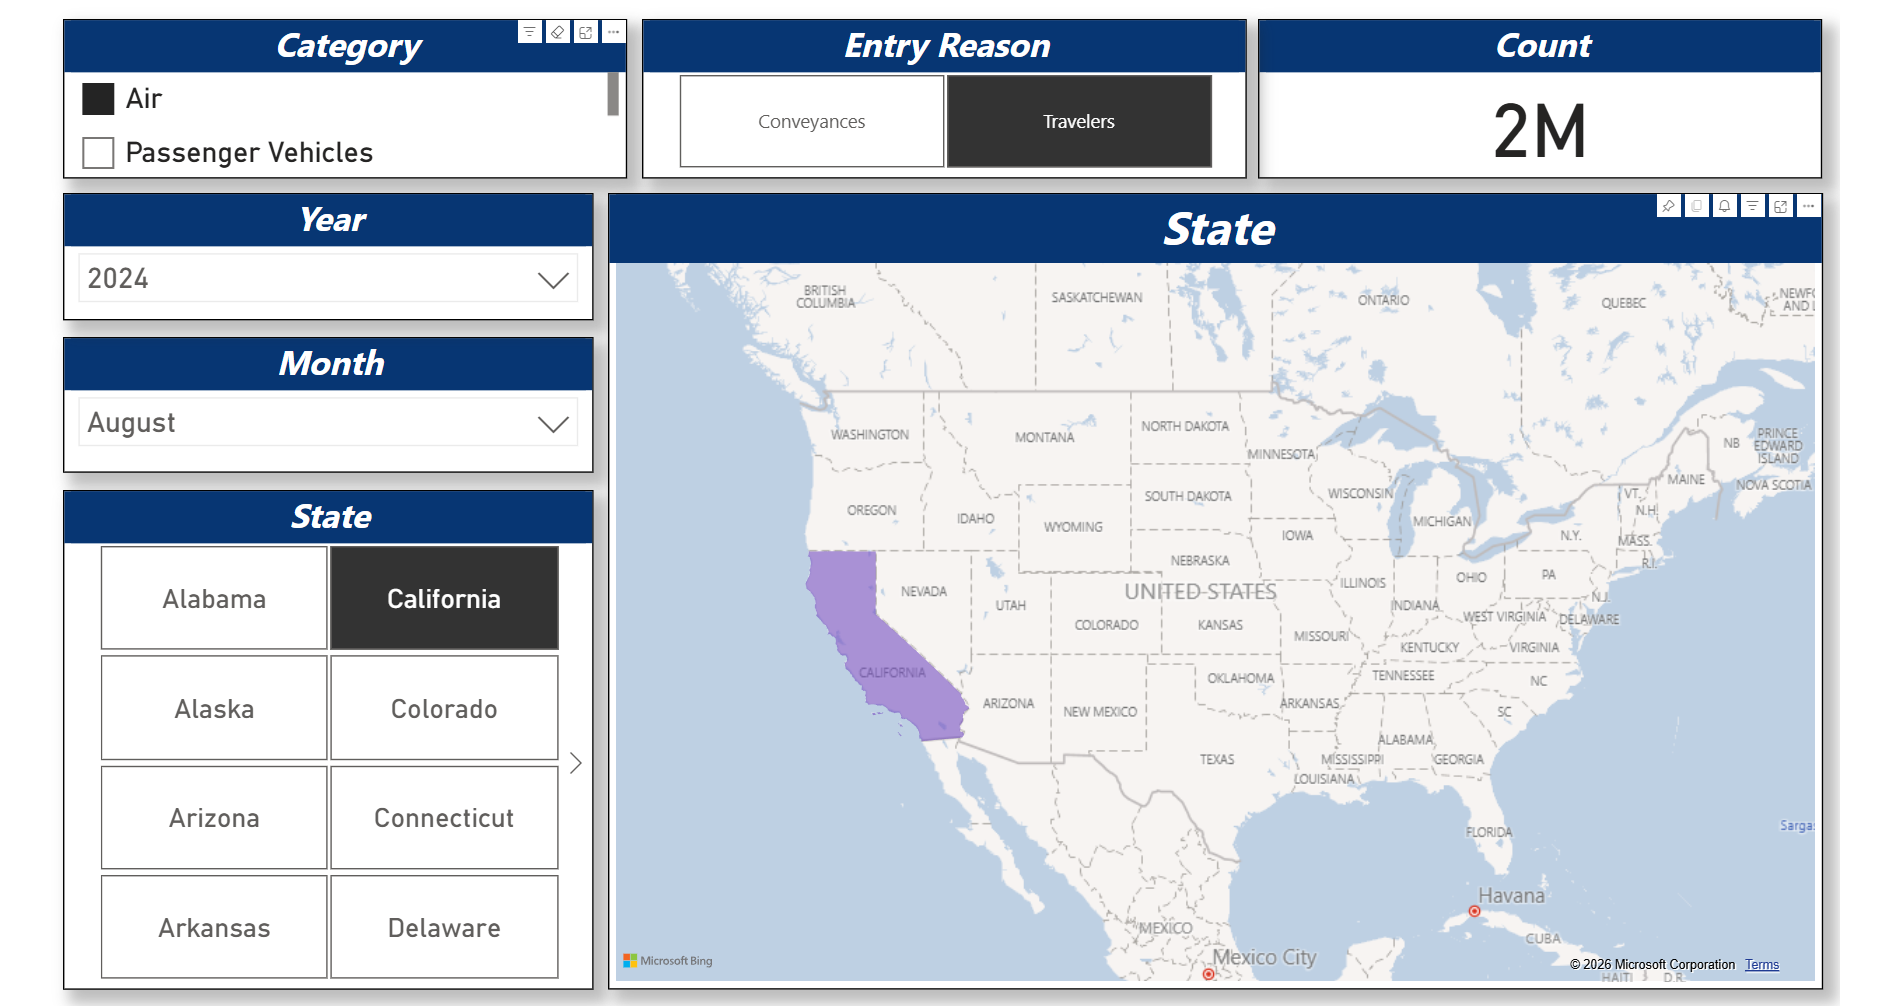

The page's visual inventory and layout, read from the dashboard file:
{"tool":"powerbi","page":{"name":"Travel to the US","canvas":[1280,720],"ordinal":8},"visuals":[{"type":"card","title":"Count","fields":{"Values":["Sum(Sheet1.Count)"]},"box":[864.6,13.6,402.8,113.6],"z":0},{"type":"slicer","title":"Category","fields":{"Values":["Sheet1.Category"]},"box":[10.6,13.6,402.8,113.6],"z":1000},{"type":"slicer","title":"Month","fields":{"Values":["Sheet1.Month"]},"box":[10.6,240.8,378.6,96.9],"z":2000},{"type":"slicer","title":"State","fields":{"Values":["Sheet1.State"]},"box":[10.6,349.8,378.6,357.4],"z":3000},{"type":"slicer","title":"Entry Reason","fields":{"Values":["Sheet1.Entry Reason"]},"box":[424,13.6,431.5,113.6],"z":4000},{"type":"slicer","title":"Year","fields":{"Values":["Sheet1.Year"]},"box":[10.6,137.8,378.6,90.9],"z":5000},{"type":"filledMap","title":"State","fields":{"Category":["Sheet1.State"]},"box":[399.8,137.8,867.6,569.3],"z":6000}]}

Visuals, with their boxes on the page's 1280x720 design canvas (x1, y1, x2, y2). These are canvas units, not pixel positions in the 1887x1006 screenshot, which may show the page scaled, cropped or inside an application window:
"Count" card: (865,14,1267,127)
"Category" slicer: (11,14,413,127)
"Month" slicer: (11,241,389,338)
"State" slicer: (11,350,389,707)
"Entry Reason" slicer: (424,14,856,127)
"Year" slicer: (11,138,389,229)
"State" filledMap: (400,138,1267,707)
